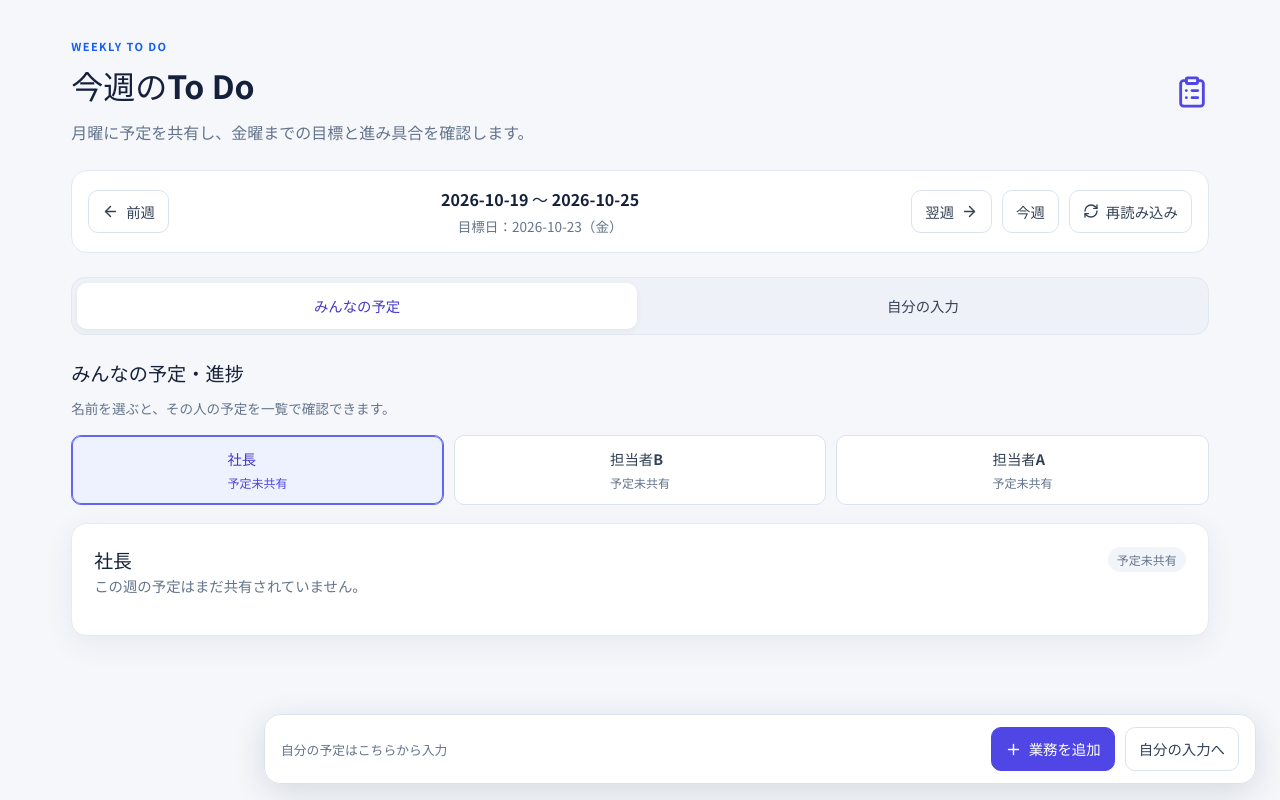
weekly To Do workspace › starts with the current JST week and shows unshared members
expect the heading "みんなの予定・進捗" is shown: met, box [71,359,244,387]
expect the text "予定未共有" is shown 4 times: met, box [228,474,288,492]; [610,474,670,492]; [992,474,1052,492]; [1108,547,1186,572]
Click the button "自分の入力": (923, 306) [643,283,1203,329]
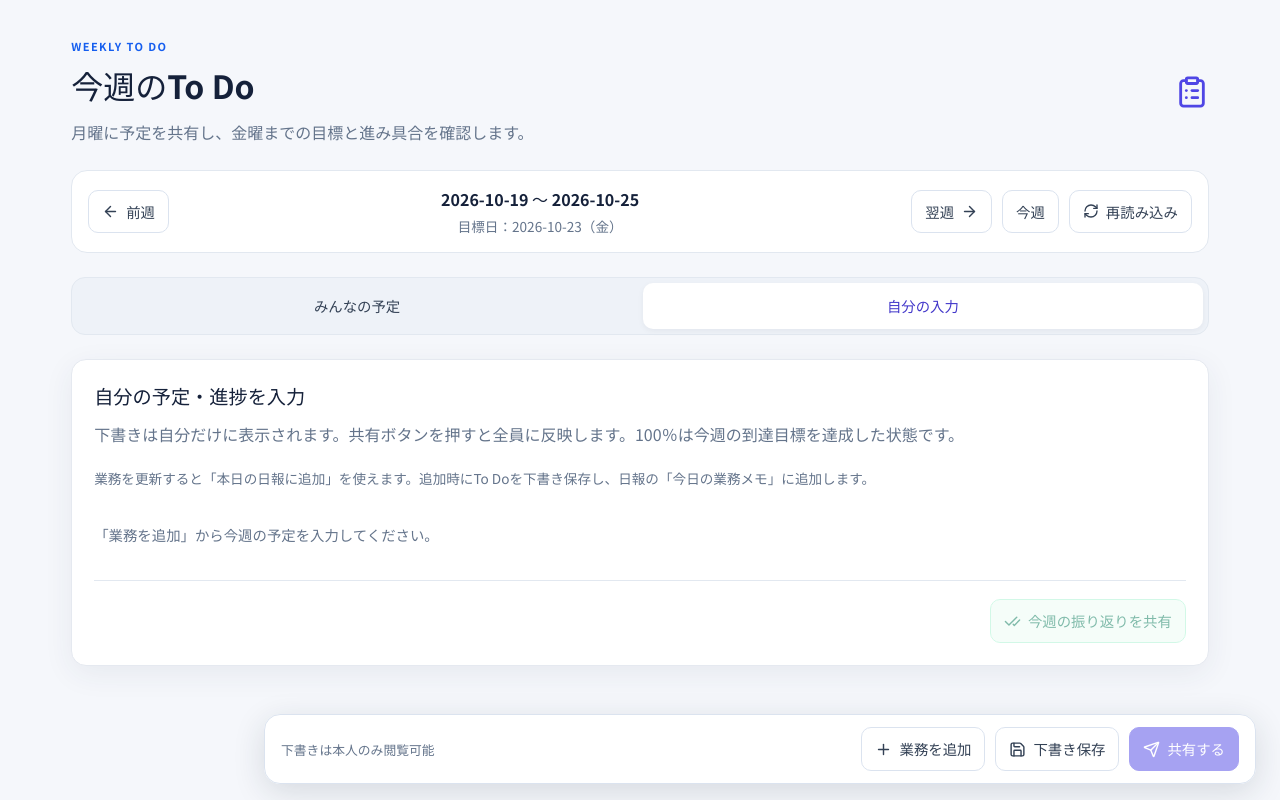
expect the heading "自分の予定・進捗を入力" is shown: met, box [94,382,305,410]
